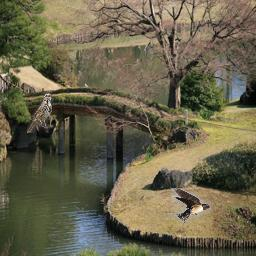Sparrow: (27, 93, 52, 133)
Swallow: (171, 188, 211, 225)
